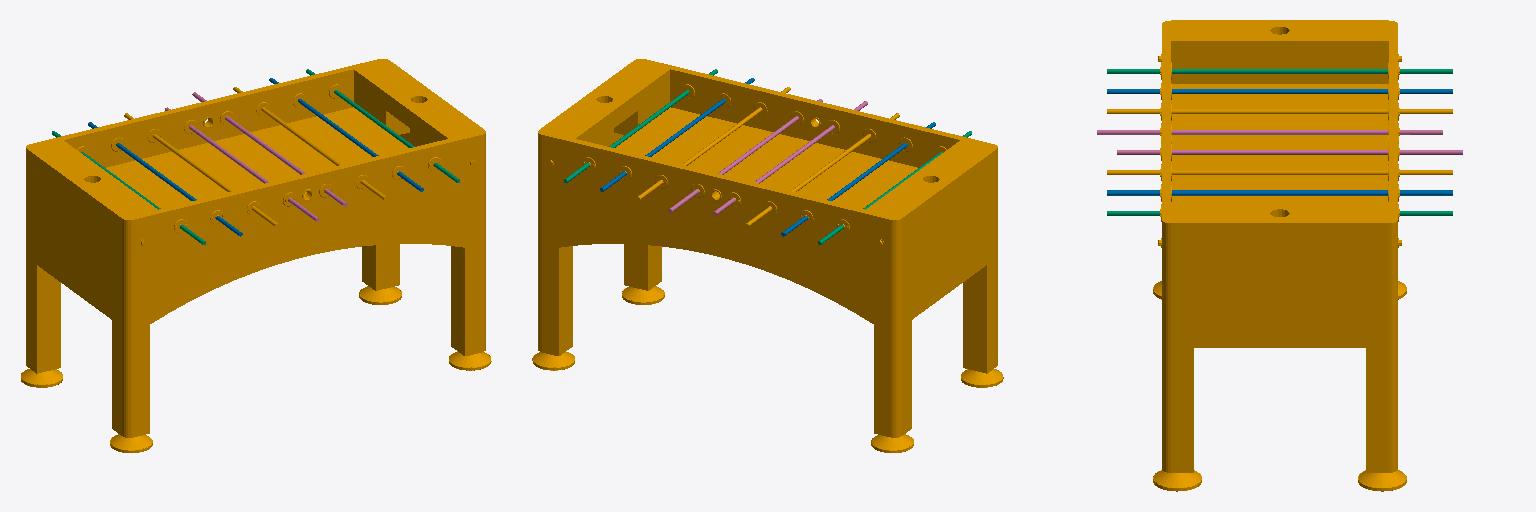
robot.urdf — foosball_table:
<?xml version="1.0"?>
<robot name="foosball_table">
  <link name="table">
    <visual>
      <origin xyz="0.0 0.0 0.0"/>
      <geometry>
        <mesh filename="meshes/table.obj" scale="0.001 0.001 0.001"/>
      </geometry>
    </visual>
    <!-- No <collision> block: the OBJ mesh is an open shell that PhysX
         can't approximate (convex_decomp seals the playing-field cavity;
         SDF can't compute inside/outside on a non-watertight mesh).
         FoosEnv._build_primitive_table_collision spawns primitive cuboid
         colliders (floor + 4 side walls + 2 back-wall pairs flanking each
         goal mouth) when use_primitive_table_collision=True. -->
  </link>


  <link name="empty_goalie_team_1">
    <inertial>
      <origin xyz="0 0 0" rpy="0 0 0"/>
      <mass value="0.001"/>
      <inertia ixx="1e-6" ixy="0" ixz="0" iyy="1e-6" iyz="0" izz="1e-6"/>
    </inertial>
    <visual>
      <origin xyz="0 0 0" rpy="0 0 0"/>
      <geometry>
        <box size="0.0005 0.0005 0.0005"/>
      </geometry>
    </visual>
  </link>
  <link name="goalie_team_1">
    <visual>
      <origin xyz="0 0 0" rpy="1.5708 0 0"/>
      <geometry>
        <cylinder length="1.08" radius="0.008"/>
      </geometry>
    </visual>
    <collision>
      <origin xyz="0 0 0" rpy="1.5708 0 0"/>
      <geometry>
        <cylinder length="1.08" radius="0.008"/>
      </geometry>
    </collision>
    <inertial>
      <mass value="0.7638"/>
      <inertia ixx="0.099" ixy="-0.000001283" ixz="0.000000003289" iyy="0.0001" iyz="0.00004499" izz="0.099"/>
    </inertial>
  </link>

  <link name="empty_bar2_team_1">
    <inertial>
      <origin xyz="0 0 0" rpy="0 0 0"/>
      <mass value="0.001"/>
      <inertia ixx="1e-6" ixy="0" ixz="0" iyy="1e-6" iyz="0" izz="1e-6"/>
    </inertial>
    <visual>
      <origin xyz="0 0 0" rpy="0 0 0"/>
      <geometry>
        <box size="0.0005 0.0005 0.0005"/>
      </geometry>
    </visual>
  </link>
  <link name="bar2_team_1">
    <visual>
      <origin xyz="0 0 0" rpy="1.5708 0 0"/>
      <geometry>
        <cylinder length="1.08" radius="0.008"/>
      </geometry>
    </visual>
    <collision>
      <origin xyz="0 0 0" rpy="1.5708 0 0"/>
      <geometry>
        <cylinder length="1.08" radius="0.008"/>
      </geometry>
    </collision>
    <inertial>
      <mass value="0.7638"/>
      <inertia ixx="0.099" ixy="-0.000001283" ixz="0.000000003289" iyy="0.0001" iyz="0.00004499" izz="0.099"/>
    </inertial>
  </link>

  <link name="empty_bar5_team_1">
    <inertial>
      <origin xyz="0 0 0" rpy="0 0 0"/>
      <mass value="0.001"/>
      <inertia ixx="1e-6" ixy="0" ixz="0" iyy="1e-6" iyz="0" izz="1e-6"/>
    </inertial>
    <visual>
      <origin xyz="0 0 0" rpy="0 0 0"/>
      <geometry>
        <box size="0.0005 0.0005 0.0005"/>
      </geometry>
    </visual>
  </link>
  <link name="bar5_team_1">
    <visual>
      <origin xyz="0 0 0" rpy="1.5708 0 0"/>
      <geometry>
        <cylinder length="1.08" radius="0.008"/>
      </geometry>
    </visual>
    <collision>
      <origin xyz="0 0 0" rpy="1.5708 0 0"/>
      <geometry>
        <cylinder length="1.08" radius="0.008"/>
      </geometry>
    </collision>
    <inertial>
      <mass value="0.7638"/>
      <inertia ixx="0.099" ixy="-0.000001283" ixz="0.000000003289" iyy="0.0001" iyz="0.00004499" izz="0.099"/>
    </inertial>
  </link>

  <link name="empty_bar3_team_1">
    <inertial>
      <origin xyz="0 0 0" rpy="0 0 0"/>
      <mass value="0.001"/>
      <inertia ixx="1e-6" ixy="0" ixz="0" iyy="1e-6" iyz="0" izz="1e-6"/>
    </inertial>
    <visual>
      <origin xyz="0 0 0" rpy="0 0 0"/>
      <geometry>
        <box size="0.0005 0.0005 0.0005"/>
      </geometry>
    </visual>
  </link>
  <link name="bar3_team_1">
    <visual>
      <origin xyz="0 0 0" rpy="1.5708 0 0"/>
      <geometry>
        <cylinder length="1.08" radius="0.008"/>
      </geometry>
    </visual>
    <collision>
      <origin xyz="0 0 0" rpy="1.5708 0 0"/>
      <geometry>
        <cylinder length="1.08" radius="0.008"/>
      </geometry>
    </collision>
    <inertial>
      <mass value="0.7638"/>
      <inertia ixx="0.099" ixy="-0.000001283" ixz="0.000000003289" iyy="0.0001" iyz="0.00004499" izz="0.099"/>
    </inertial>
  </link>




  <link name="empty_goalie_team_2">
    <inertial>
      <origin xyz="0 0 0" rpy="0 0 0"/>
      <mass value="0.001"/>
      <inertia ixx="1e-6" ixy="0" ixz="0" iyy="1e-6" iyz="0" izz="1e-6"/>
    </inertial>
    <visual>
      <origin xyz="0 0 0" rpy="0 0 0"/>
      <geometry>
        <box size="0.0005 0.0005 0.0005"/>
      </geometry>
    </visual>
  </link>
  <link name="goalie_team_2">
    <visual>
      <origin xyz="0 0 0" rpy="1.5708 0 0"/>
      <geometry>
        <cylinder length="1.08" radius="0.008"/>
      </geometry>
    </visual>
    <collision>
      <origin xyz="0 0 0" rpy="1.5708 0 0"/>
      <geometry>
        <cylinder length="1.08" radius="0.008"/>
      </geometry>
    </collision>
    <inertial>
      <mass value="0.7638"/>
      <inertia ixx="0.099" ixy="-0.000001283" ixz="0.000000003289" iyy="0.0001" iyz="0.00004499" izz="0.099"/>
    </inertial>
  </link>

  <link name="empty_bar2_team_2">
    <inertial>
      <origin xyz="0 0 0" rpy="0 0 0"/>
      <mass value="0.001"/>
      <inertia ixx="1e-6" ixy="0" ixz="0" iyy="1e-6" iyz="0" izz="1e-6"/>
    </inertial>
    <visual>
      <origin xyz="0 0 0" rpy="0 0 0"/>
      <geometry>
        <box size="0.0005 0.0005 0.0005"/>
      </geometry>
    </visual>
  </link>
  <link name="bar2_team_2">
    <visual>
      <origin xyz="0 0 0" rpy="1.5708 0 0"/>
      <geometry>
        <cylinder length="1.08" radius="0.008"/>
      </geometry>
    </visual>
    <collision>
      <origin xyz="0 0 0" rpy="1.5708 0 0"/>
      <geometry>
        <cylinder length="1.08" radius="0.008"/>
      </geometry>
    </collision>
    <inertial>
      <mass value="0.7638"/>
      <inertia ixx="0.099" ixy="-0.000001283" ixz="0.000000003289" iyy="0.0001" iyz="0.00004499" izz="0.099"/>
    </inertial>
  </link>

  <link name="empty_bar5_team_2">
    <inertial>
      <origin xyz="0 0 0" rpy="0 0 0"/>
      <mass value="0.001"/>
      <inertia ixx="1e-6" ixy="0" ixz="0" iyy="1e-6" iyz="0" izz="1e-6"/>
    </inertial>
    <visual>
      <origin xyz="0 0 0" rpy="0 0 0"/>
      <geometry>
        <box size="0.0005 0.0005 0.0005"/>
      </geometry>
    </visual>
  </link>
  <link name="bar5_team_2">
    <visual>
      <origin xyz="0 0 0" rpy="1.5708 0 0"/>
      <geometry>
        <cylinder length="1.08" radius="0.008"/>
      </geometry>
    </visual>
    <collision>
      <origin xyz="0 0 0" rpy="1.5708 0 0"/>
      <geometry>
        <cylinder length="1.08" radius="0.008"/>
      </geometry>
    </collision>
    <inertial>
      <mass value="0.7638"/>
      <inertia ixx="0.099" ixy="-0.000001283" ixz="0.000000003289" iyy="0.0001" iyz="0.00004499" izz="0.099"/>
    </inertial>
  </link>

  <link name="empty_bar3_team_2">
    <inertial>
      <origin xyz="0 0 0" rpy="0 0 0"/>
      <mass value="0.001"/>
      <inertia ixx="1e-6" ixy="0" ixz="0" iyy="1e-6" iyz="0" izz="1e-6"/>
    </inertial>
    <visual>
      <origin xyz="0 0 0" rpy="0 0 0"/>
      <geometry>
        <box size="0.0005 0.0005 0.0005"/>
      </geometry>
    </visual>
  </link>
  <link name="bar3_team_2">
    <visual>
      <origin xyz="0 0 0" rpy="1.5708 0 0"/>
      <geometry>
        <cylinder length="1.08" radius="0.008"/>
      </geometry>
    </visual>
    <collision>
      <origin xyz="0 0 0" rpy="1.5708 0 0"/>
      <geometry>
        <cylinder length="1.08" radius="0.008"/>
      </geometry>
    </collision>
    <inertial>
      <mass value="0.7638"/>
      <inertia ixx="0.099" ixy="-0.000001283" ixz="0.000000003289" iyy="0.0001" iyz="0.00004499" izz="0.099"/>
    </inertial>
  </link>

<joint name="goalie_team_1_prismatic_joint" type="prismatic">
  <parent link="table"/>
  <child link="empty_goalie_team_1"/>
  <limit effort="9999" velocity="9999" lower="-0.147" upper="0.147"/>
  <axis xyz="0 1 0"/>
  <origin xyz="0.525 0.0 0.360054"/>
</joint>
<joint name="goalie_team_1_revolute_joint" type="revolute">
  <parent link="empty_goalie_team_1"/>
  <child link="goalie_team_1"/>
  <axis xyz="0 1 0"/>
  <origin xyz="0 0 0" rpy="0 0 0"/>
  <limit effort="9999" velocity="9999" lower="-100.0" upper="100.0"/>
</joint>

<joint name="bar2_team_1_prismatic_joint" type="prismatic">
  <parent link="table"/>
  <child link="empty_bar2_team_1"/>
  <limit effort="9999" velocity="9999" lower="-0.187" upper="0.187"/>
  <axis xyz="0 1 0"/>
  <origin xyz="0.375 0.0 0.360054"/>
</joint>
<joint name="bar2_team_1_revolute_joint" type="revolute">
  <parent link="empty_bar2_team_1"/>
  <child link="bar2_team_1"/>
  <axis xyz="0 1 0"/>
  <origin xyz="0 0 0" rpy="0 0 0"/>
  <limit effort="9999" velocity="9999" lower="-100.0" upper="100.0"/>
</joint>

<joint name="bar5_team_1_prismatic_joint" type="prismatic">
  <parent link="table"/>
  <child link="empty_bar5_team_1"/>
  <limit effort="9999" velocity="9999" lower="-0.077" upper="0.077"/>
  <axis xyz="0 1 0"/>
  <origin xyz="0.075 0.031126 0.360054"/>
</joint>
<joint name="bar5_team_1_revolute_joint" type="revolute">
  <parent link="empty_bar5_team_1"/>
  <child link="bar5_team_1"/>
  <axis xyz="0 1 0"/>
  <origin xyz="0 0 0" rpy="0 0 0"/>
  <limit effort="9999" velocity="9999" lower="-100.0" upper="100.0"/>
</joint>

<joint name="bar3_team_1_prismatic_joint" type="prismatic">
  <parent link="table"/>
  <child link="empty_bar3_team_1"/>
  <limit effort="9999" velocity="9999" lower="-0.117" upper="0.117"/>
  <axis xyz="0 1 0"/>
  <origin xyz="-0.225 0.0 0.360054"/>
</joint>
<joint name="bar3_team_1_revolute_joint" type="revolute">
  <parent link="empty_bar3_team_1"/>
  <child link="bar3_team_1"/>
  <axis xyz="0 1 0"/>
  <origin xyz="0 0 0" rpy="0 0 0"/>
  <limit effort="9999" velocity="9999" lower="-100.0" upper="100.0"/>
</joint>






<joint name="goalie_team_2_prismatic_joint" type="prismatic">
  <parent link="table"/>
  <child link="empty_goalie_team_2"/>
  <limit effort="9999" velocity="9999" lower="-0.147" upper="0.147"/>
  <axis xyz="0 1 0"/>
  <origin xyz="-0.525 0.0 0.360054" rpy="0 0 3.1415"/>
</joint>
<joint name="goalie_team_2_revolute_joint" type="revolute">
  <parent link="empty_goalie_team_2"/>
  <child link="goalie_team_2"/>
  <axis xyz="0 1 0"/>
  <origin xyz="0 0 0" rpy="0 0 0"/>
  <limit effort="9999" velocity="9999" lower="-100.0" upper="100.0"/>
</joint>

<joint name="bar2_team_2_prismatic_joint" type="prismatic">
  <parent link="table"/>
  <child link="empty_bar2_team_2"/>
  <limit effort="9999" velocity="9999" lower="-0.187" upper="0.187"/>
  <axis xyz="0 1 0"/>
  <origin xyz="-0.375 0.0 0.360054" rpy="0 0 3.1415"/>
</joint>
<joint name="bar2_team_2_revolute_joint" type="revolute">
  <parent link="empty_bar2_team_2"/>
  <child link="bar2_team_2"/>
  <axis xyz="0 1 0"/>
  <origin xyz="0 0 0" rpy="0 0 0"/>
  <limit effort="9999" velocity="9999" lower="-100.0" upper="100.0"/>
</joint>

<joint name="bar5_team_2_prismatic_joint" type="prismatic">
  <parent link="table"/>
  <child link="empty_bar5_team_2"/>
  <limit effort="9999" velocity="9999" lower="-0.077" upper="0.077"/>
  <axis xyz="0 1 0"/>
  <origin xyz="-0.075 -0.031126 0.360054" rpy="0 0 3.1415"/>
</joint>
<joint name="bar5_team_2_revolute_joint" type="revolute">
  <parent link="empty_bar5_team_2"/>
  <child link="bar5_team_2"/>
  <axis xyz="0 1 0" />
  <origin xyz="0 0 0" rpy="0 0 0"/>
  <limit effort="9999" velocity="9999" lower="-100.0" upper="100.0"/>
</joint>

<joint name="bar3_team_2_prismatic_joint" type="prismatic">
  <parent link="table"/>
  <child link="empty_bar3_team_2"/>
  <limit effort="9999" velocity="9999" lower="-0.117" upper="0.117"/>
  <axis xyz="0 1 0"/>
  <origin xyz="0.225 0.0 0.360054" rpy="0 0 3.1415"/>
</joint>
<joint name="bar3_team_2_revolute_joint" type="revolute">
  <parent link="empty_bar3_team_2"/>
  <child link="bar3_team_2"/>
  <axis xyz="0 1 0"/>
  <origin xyz="0 0 0" rpy="0 0 0"/>
  <limit effort="9999" velocity="9999" lower="-100.0" upper="100.0"/>
</joint>


</robot>

--- Render facts (derived) ---
Views: 3 orthographic renders of the robot side by side, from view 1: azimuth 30°, elevation 25°; view 2: azimuth 150°, elevation 25°; view 3: azimuth 270°, elevation 25°.
Robot: foosball_table — 17 links, 16 joints (8 revolute, 8 prismatic); root link table; default pose: all joints at 0.
Links seen in each view (by area): view 1: table, bar5_team_1, bar2_team_2, bar3_team_1, bar5_team_2, bar3_team_2, bar2_team_1, goalie_team_1; view 2: table, bar5_team_1, bar5_team_2, bar3_team_1, bar2_team_2, bar3_team_2, goalie_team_1, bar2_team_1; view 3: table, bar2_team_1, bar5_team_1, bar3_team_1, goalie_team_2, bar2_team_2, bar5_team_2, bar3_team_2, goalie_team_1.
Link boxes in pixels (left/top/right/bottom): table: left=21, top=59, right=491, bottom=452; bar5_team_1: left=192, top=92, right=346, bottom=206; bar2_team_2: left=88, top=122, right=242, bottom=236; bar3_team_1: left=124, top=113, right=278, bottom=227; bar5_team_2: left=165, top=107, right=319, bottom=221; bar3_team_2: left=233, top=87, right=387, bottom=200; bar2_team_1: left=269, top=78, right=423, bottom=191; goalie_team_1: left=306, top=69, right=459, bottom=182; table: left=532, top=59, right=1003, bottom=452; bar5_team_1: left=668, top=99, right=822, bottom=212; bar5_team_2: left=713, top=101, right=867, bottom=215; bar3_team_1: left=745, top=113, right=899, bottom=227; bar2_team_2: left=781, top=122, right=935, bottom=236; bar3_team_2: left=636, top=87, right=790, bottom=200; goalie_team_1: left=564, top=69, right=717, bottom=182; bar2_team_1: left=600, top=78, right=754, bottom=191; table: left=1153, top=20, right=1406, bottom=491; bar2_team_1: left=1107, top=190, right=1452, bottom=195; bar5_team_1: left=1117, top=150, right=1462, bottom=154; bar3_team_1: left=1107, top=109, right=1452, bottom=113; goalie_team_2: left=1107, top=69, right=1452, bottom=73; bar2_team_2: left=1107, top=89, right=1452, bottom=93; bar5_team_2: left=1097, top=130, right=1442, bottom=134; bar3_team_2: left=1107, top=170, right=1452, bottom=174; goalie_team_1: left=1107, top=211, right=1452, bottom=215.
Size in the robot's own frame: 1.55 by 1.14 by 0.912 metres.
Meshes: 1 distinct files referenced, 1 mesh visuals loaded (1 OBJ).
